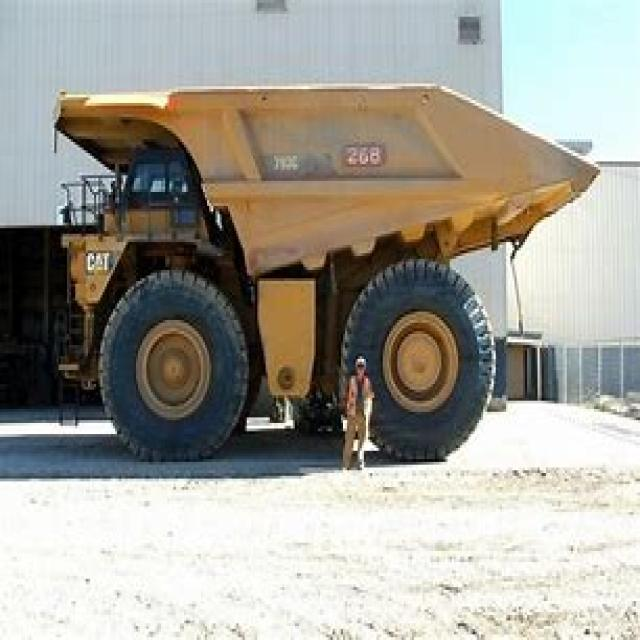dump_truck: (48, 61, 607, 470)
